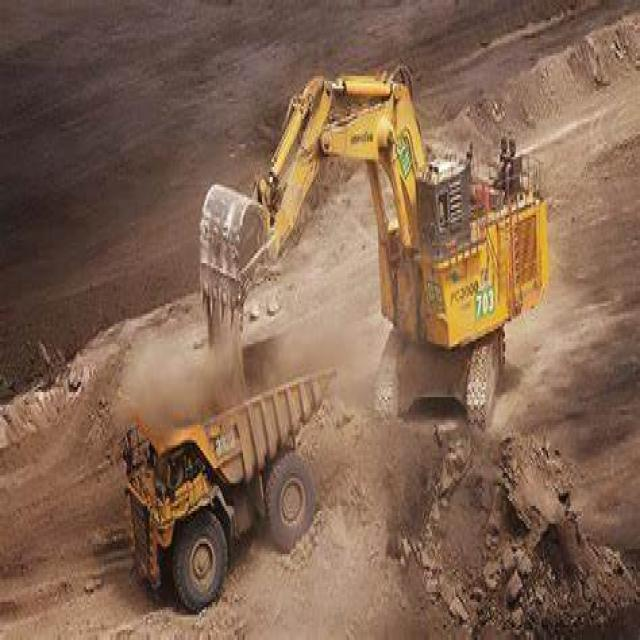dump_truck: (90, 334, 357, 579)
excavator: (202, 46, 614, 466)
